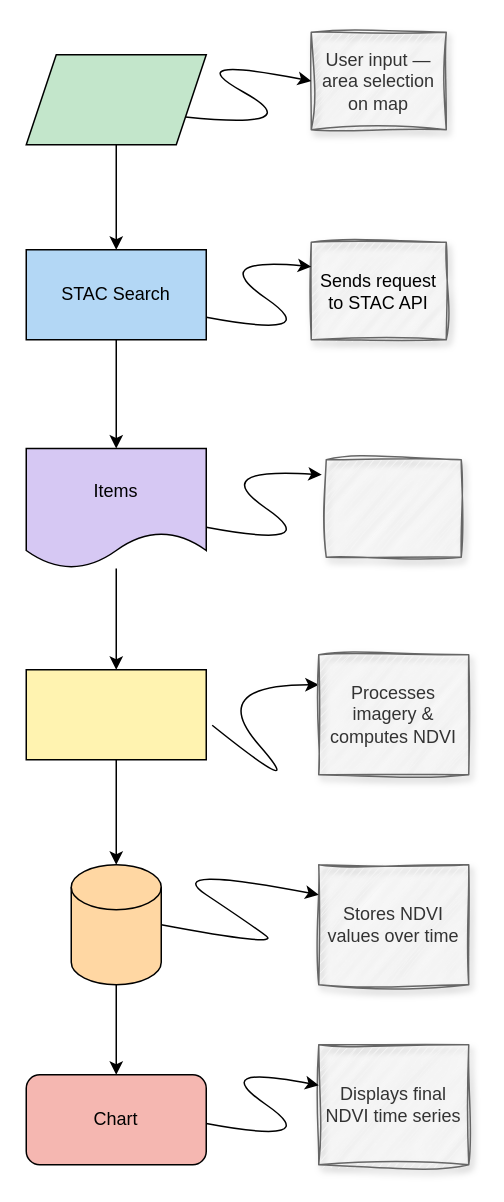
This 504x1202 diagram has some shape labels left out. The shapes that lost their labels are listed below. From the top down, each one's centre as x and y in pixels, then its label:
the point at 115,99: ROI (Region of Interest)
the point at 394,510: API returns image metadata
the point at 115,714: Sampling / Composite
the point at 115,924: Time Series
